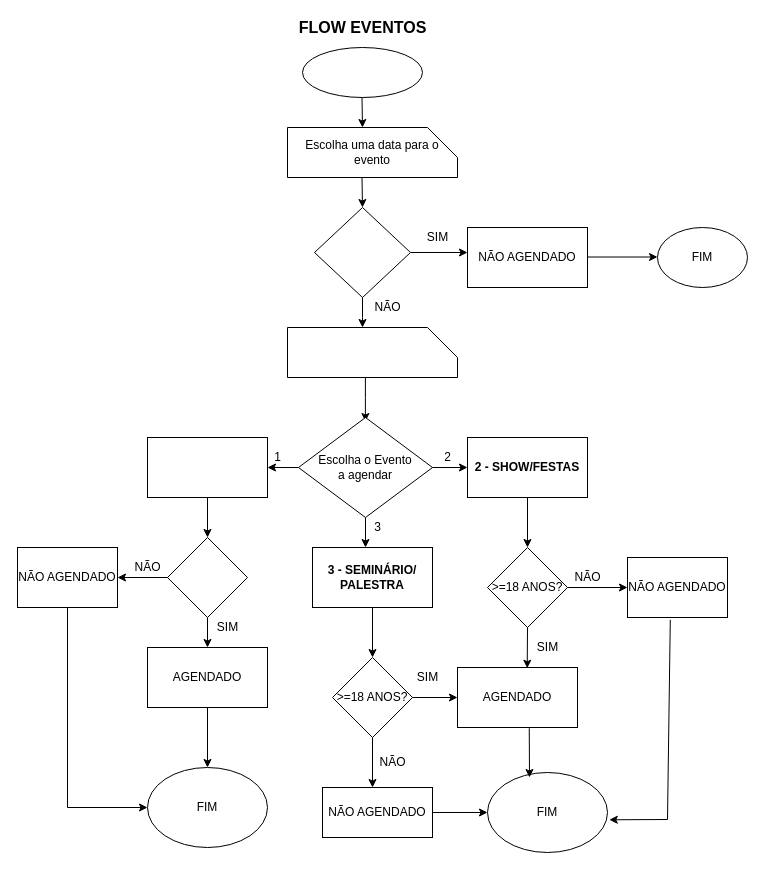
Some shapes in this 765 by 870 pixel diagram are drawn without their labels. Each missing label, with the centre of its shape:
1 - EVENTO INFANTO-JUVENIL: (x=207, y=467)
Companhia dos Pais?: (x=207, y=577)
Informe o Tipo de Evento Capacidade Max: 200 pessoas: (x=372, y=352)
INICIO: (x=362, y=72)
Tem evento nesta data?: (x=362, y=252)
